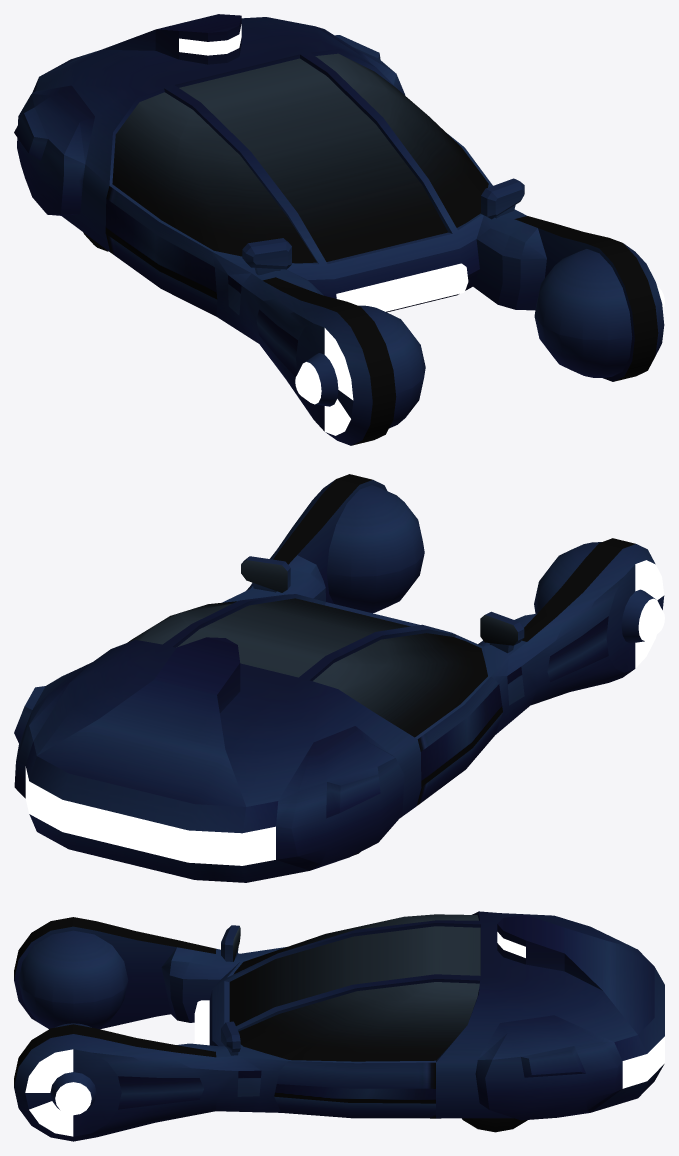
Rendered from hover_car.glb.
3 views of the same model, one above another, from view 1: azimuth 30°, elevation 25°; view 2: azimuth 150°, elevation 25°; view 3: azimuth 270°, elevation 25° (orthographic). The views are drawn at different scales.
Parts seen in each view (by area): view 1: sphere4, _2, _5, _4; view 2: sphere4, _6, _4, _2; view 3: sphere4, _2, _5, _4, _6, _1.
Boxes of the visible parts, x1,y1,x2,y2 form: sphere4: (14, 14, 664, 445); _2: (295, 263, 664, 404); _5: (179, 24, 350, 435); _4: (324, 328, 353, 400); sphere4: (14, 474, 664, 882); _6: (25, 766, 275, 865); _4: (635, 560, 664, 599); _2: (638, 598, 664, 641); sphere4: (14, 911, 664, 1141); _2: (55, 1000, 209, 1115); _5: (29, 932, 525, 1136); _4: (25, 1049, 73, 1092); _6: (622, 1036, 664, 1088); _1: (462, 1118, 527, 1132).
Size of what is drawn, in the model's own units: 1.63 by 0.8256 by 3.06.
7 materials, 4 textured.
